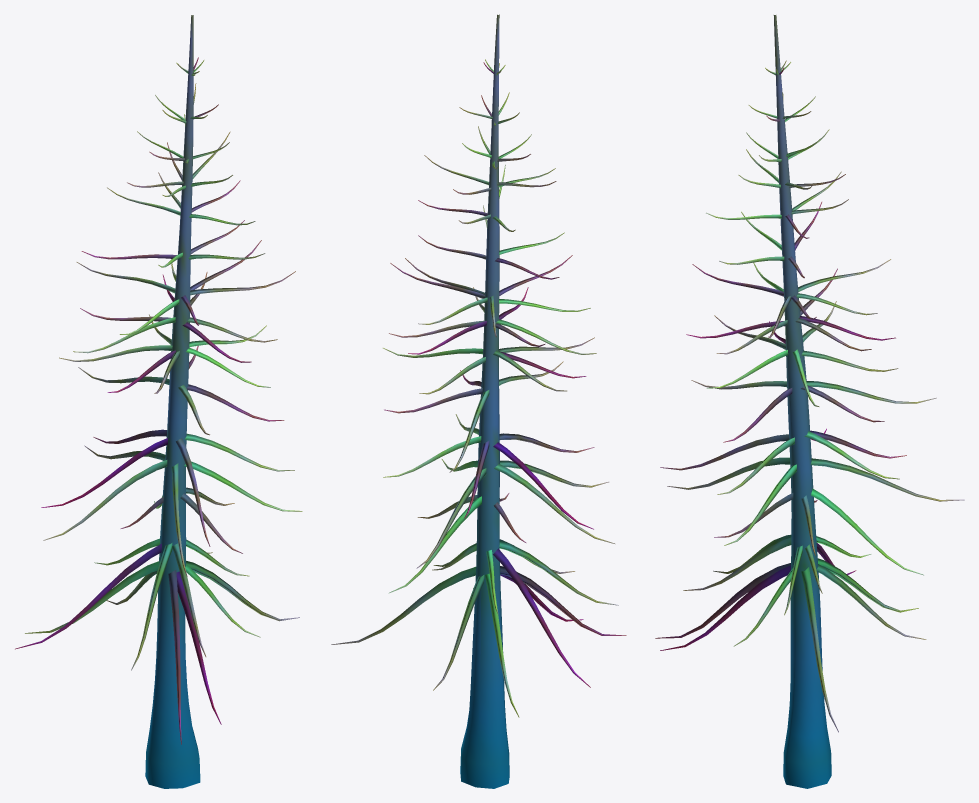
File: spruce-grove-c.glb
3 renders of one model, left to right at view 1: azimuth 30°, elevation 25°; view 2: azimuth 150°, elevation 25°; view 3: azimuth 270°, elevation 25°, orthographic. The views are drawn at different scales.
Parts seen in each view (by area): view 1: bark; view 2: bark; view 3: bark.
Boxes of the visible parts, box(x1,y1,x2,y2) form: bark: box(15, 15, 302, 788); bark: box(331, 14, 626, 788); bark: box(655, 15, 964, 788).
Bounding box in the file's own units: 5.02 × 13.44 × 4.93.
